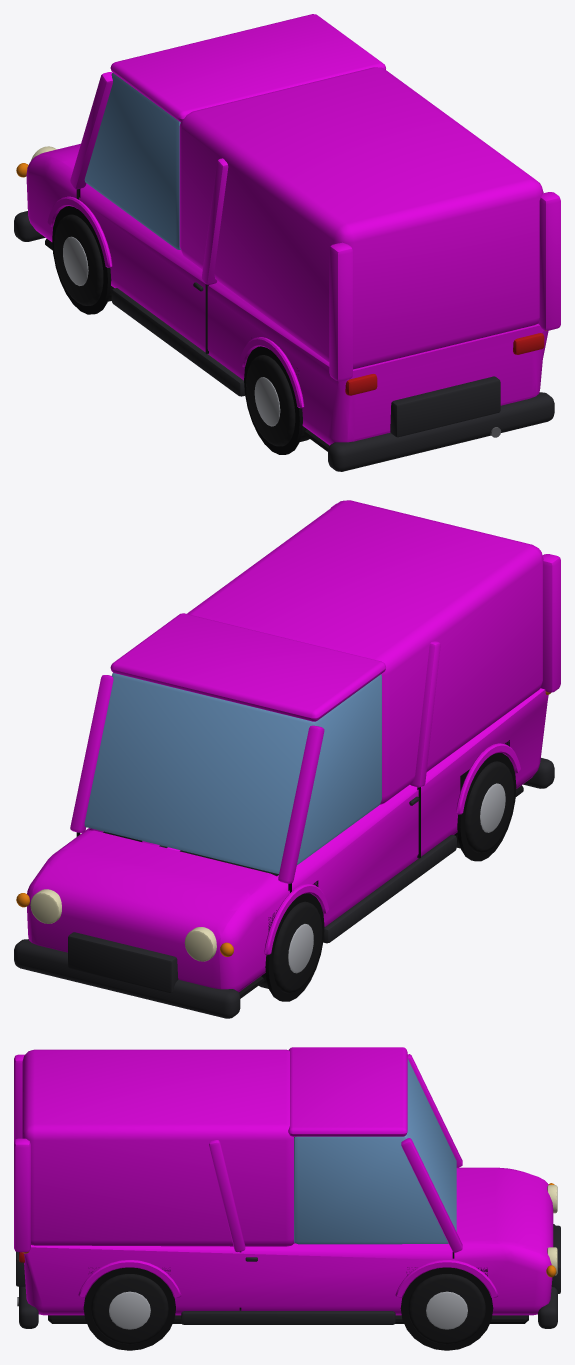
The model's file is ParcelBoxer_Player.fbx.
3 renders of one model, top to bottom at view 1: azimuth 30°, elevation 25°; view 2: azimuth 150°, elevation 25°; view 3: azimuth 270°, elevation 25°, orthographic. The views are drawn at different scales.
Parts seen in each view (by area): view 1: ParcelBoxer_Player; view 2: ParcelBoxer_Player; view 3: ParcelBoxer_Player.
Part boxes in pixels (x1=…): ParcelBoxer_Player: x1=14, y1=14, x2=560, y2=471; ParcelBoxer_Player: x1=14, y1=500, x2=560, y2=1018; ParcelBoxer_Player: x1=14, y1=1047, x2=560, y2=1350.
Bounding box in the file's own units: 2.12 × 2.37 × 5.35.
